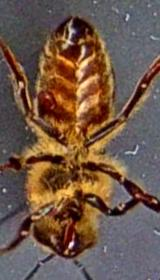varroa_mite: (26, 85, 68, 118)
